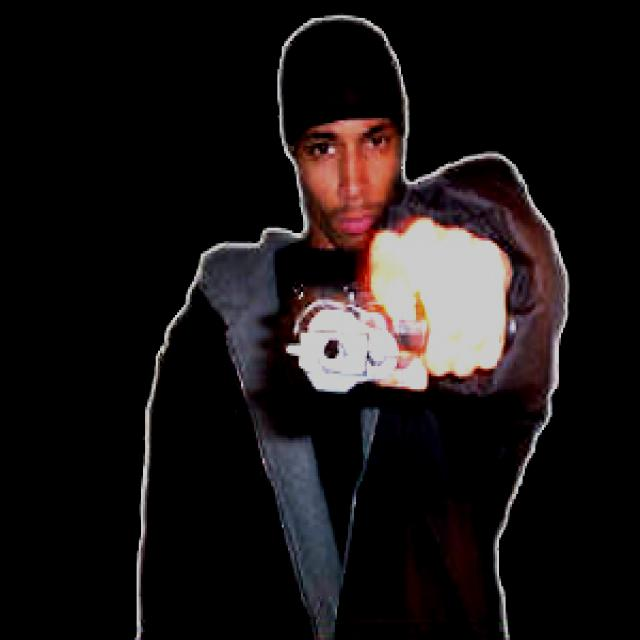handgun: (275, 246, 431, 410)
